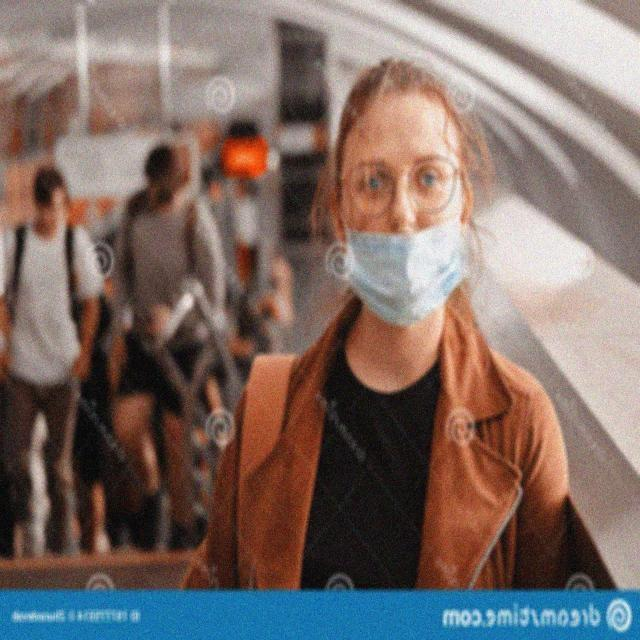hairnet: (332, 113, 466, 323)
